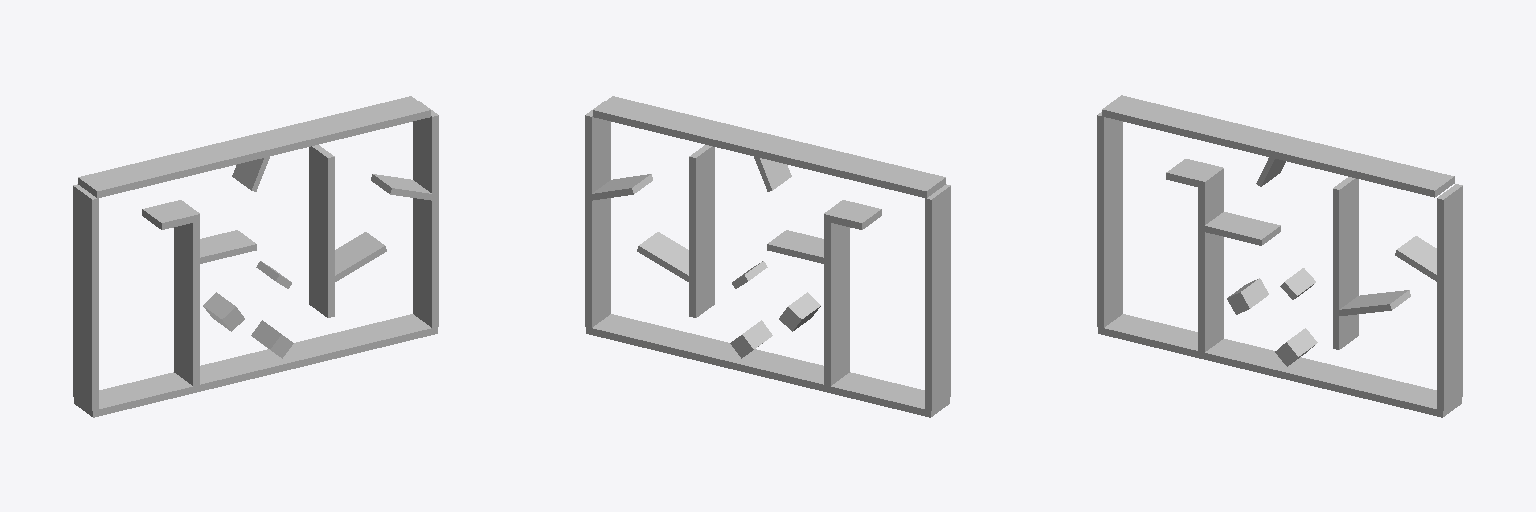
Rendered from ddr_env2.obj.
3 renders of one model, left to right at view 1: azimuth 30°, elevation 25°; view 2: azimuth 150°, elevation 25°; view 3: azimuth 330°, elevation 25°, orthographic.
Visible parts, largest first — view 1: Cube_Cube.001, Cube.004_Cube.005, Cube.002_Cube.003, Cube.001_Cube.002, Cube.005_Cube.006, Cube.003_Cube.004, Cube.009, Cube.007_Cube.014, Cube.012, Cube.013, Cube.006_Cube, Cube.008 (+1 smaller); view 2: Cube_Cube.001, Cube.004_Cube.005, Cube.002_Cube.003, Cube.001_Cube.002, Cube.005_Cube.006, Cube.003_Cube.004, Cube.009, Cube.007_Cube.014, Cube.012, Cube.013, Cube.006_Cube, Cube.008 (+1 smaller); view 3: Cube_Cube.001, Cube.004_Cube.005, Cube.001_Cube.002, Cube.002_Cube.003, Cube.005_Cube.006, Cube.003_Cube.004, Cube.007_Cube.014, Cube.012, Cube.009, Cube.013, Cube.006_Cube, Cube.008 (+1 smaller).
Part boxes in pixels (left/top/right/bottom): Cube_Cube.001: left=78, top=96, right=430, bottom=198; Cube.004_Cube.005: left=74, top=314, right=437, bottom=417; Cube.002_Cube.003: left=73, top=184, right=98, bottom=410; Cube.001_Cube.002: left=413, top=101, right=438, bottom=327; Cube.005_Cube.006: left=309, top=145, right=334, bottom=317; Cube.003_Cube.004: left=174, top=221, right=199, bottom=385; Cube.009: left=331, top=232, right=386, bottom=283; Cube.007_Cube.014: left=199, top=230, right=256, bottom=263; Cube.012: left=142, top=200, right=199, bottom=229; Cube.013: left=371, top=174, right=435, bottom=200; Cube.006_Cube: left=203, top=292, right=244, bottom=331; Cube.008: left=251, top=320, right=293, bottom=358; Cube_Cube.001: left=593, top=96, right=945, bottom=198; Cube.004_Cube.005: left=586, top=314, right=949, bottom=417; Cube.002_Cube.003: left=925, top=184, right=950, bottom=410; Cube.001_Cube.002: left=585, top=101, right=610, bottom=327; Cube.005_Cube.006: left=689, top=145, right=714, bottom=317; Cube.003_Cube.004: left=824, top=221, right=849, bottom=385; Cube.009: left=637, top=232, right=692, bottom=283; Cube.007_Cube.014: left=767, top=230, right=824, bottom=263; Cube.012: left=824, top=200, right=881, bottom=229; Cube.013: left=588, top=174, right=652, bottom=200; Cube.006_Cube: left=779, top=292, right=820, bottom=331; Cube.008: left=730, top=320, right=772, bottom=358; Cube_Cube.001: left=1102, top=95, right=1454, bottom=197; Cube.004_Cube.005: left=1098, top=314, right=1461, bottom=417; Cube.001_Cube.002: left=1437, top=184, right=1462, bottom=410; Cube.002_Cube.003: left=1097, top=112, right=1122, bottom=327; Cube.005_Cube.006: left=1333, top=177, right=1358, bottom=349; Cube.003_Cube.004: left=1198, top=176, right=1223, bottom=352; Cube.007_Cube.014: left=1204, top=212, right=1280, bottom=245; Cube.012: left=1166, top=159, right=1223, bottom=188; Cube.009: left=1335, top=290, right=1410, bottom=316; Cube.013: left=1395, top=236, right=1439, bottom=281; Cube.006_Cube: left=1227, top=278, right=1268, bottom=314; Cube.008: left=1275, top=328, right=1317, bottom=366.
Bounding box in the file's own units: 10.3 × 6.4 × 1.